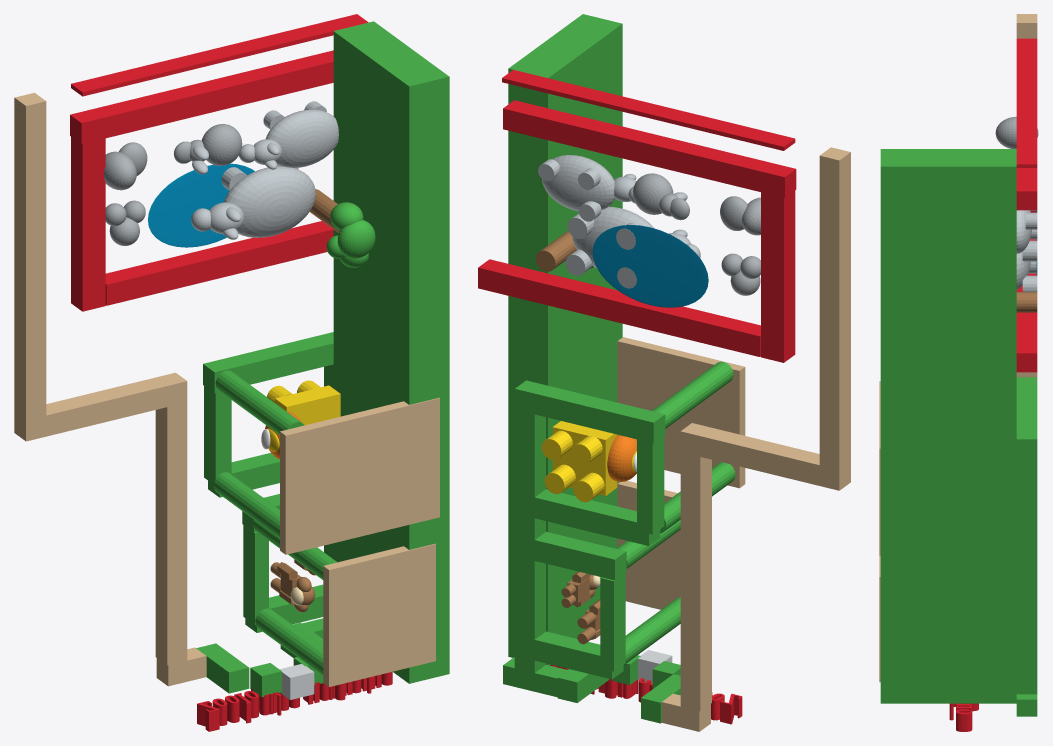
Rendered from tinker.obj.
The picture shows the model from 3 angles, left to right: view 1: azimuth 30°, elevation 25°; view 2: azimuth 150°, elevation 25°; view 3: azimuth 270°, elevation 25°; orthographic projection. The views are drawn at different scales.
Parts seen in each view (by area): view 1: group_0_4634441, group_0_14860437, group_0_15277357, group_0_12568524, group_0_10988977, group_0_40919, group_0_16768282, group_0_11107152, group_0_14541540; view 2: group_0_4634441, group_0_14860437, group_0_15277357, group_0_12568524, group_0_40919, group_0_16768282, group_0_10988977, group_0_11107152, group_0_16089887, group_0_14541540; view 3: group_0_4634441, group_0_15277357, group_0_12568524, group_0_14860437, group_0_10988977, group_0_11107152.
Part boxes in pixels (left/top/right/bottom): group_0_4634441: left=196, top=21, right=449, bottom=697; group_0_14860437: left=14, top=92, right=439, bottom=686; group_0_15277357: left=70, top=14, right=392, bottom=731; group_0_12568524: left=191, top=101, right=338, bottom=239; group_0_10988977: left=103, top=124, right=242, bottom=245; group_0_40919: left=148, top=163, right=254, bottom=247; group_0_16768282: left=267, top=380, right=340, bottom=451; group_0_11107152: left=270, top=189, right=339, bottom=612; group_0_14541540: left=280, top=664, right=314, bottom=699; group_0_4634441: left=503, top=14, right=735, bottom=723; group_0_14860437: left=617, top=147, right=850, bottom=731; group_0_15277357: left=478, top=70, right=796, bottom=724; group_0_12568524: left=538, top=155, right=700, bottom=288; group_0_40919: left=592, top=225, right=708, bottom=307; group_0_16768282: left=541, top=421, right=636, bottom=502; group_0_10988977: left=633, top=173, right=760, bottom=295; group_0_11107152: left=535, top=230, right=600, bottom=644; group_0_16089887: left=607, top=434, right=636, bottom=481; group_0_14541540: left=637, top=650, right=672, bottom=683; group_0_4634441: left=880, top=149, right=1037, bottom=716; group_0_15277357: left=949, top=38, right=1037, bottom=731; group_0_12568524: left=1016, top=210, right=1037, bottom=291; group_0_14860437: left=879, top=14, right=1037, bottom=682; group_0_10988977: left=995, top=116, right=1038, bottom=148; group_0_11107152: left=1016, top=292, right=1037, bottom=312.
Size of the model in its own units: 364 by 602 by 152.
